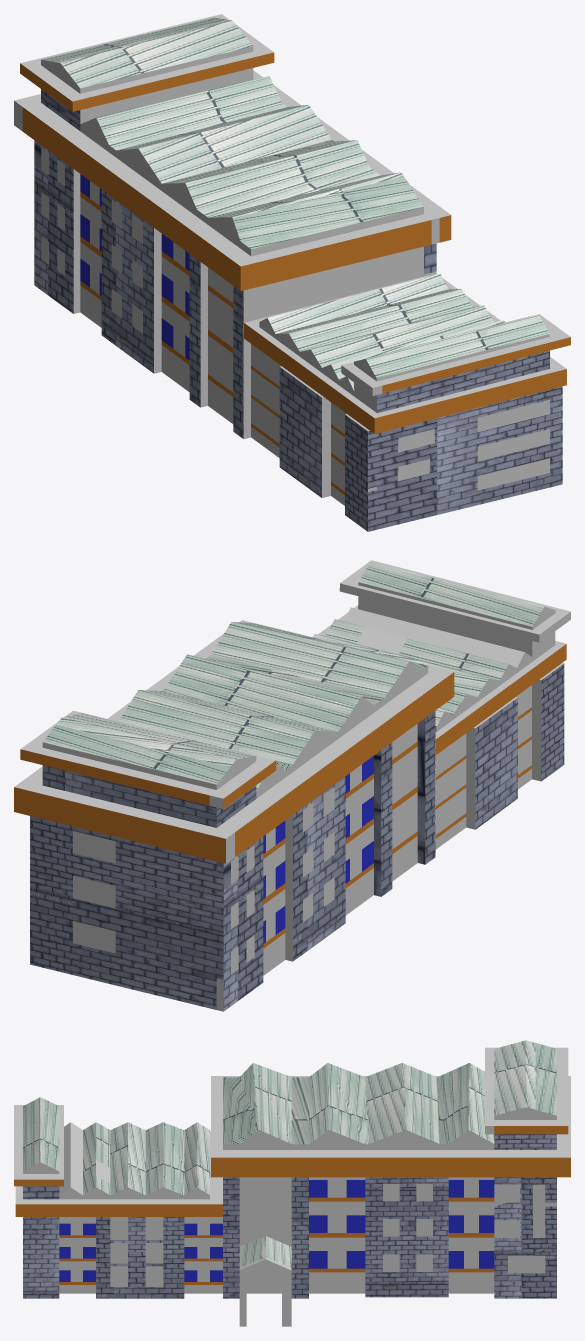
Rendered from central.fbx.
The picture shows the model from 3 angles, top to bottom: view 1: azimuth 30°, elevation 25°; view 2: azimuth 150°, elevation 25°; view 3: azimuth 270°, elevation 25°; orthographic projection. The views are drawn at different scales.
Parts seen in each view (by area): view 1: Cube; view 2: Cube; view 3: Cube.
Part boxes in pixels (x1,y1,x2,y2): Cube: [14, 14, 570, 531]; Cube: [14, 560, 570, 1011]; Cube: [14, 1040, 570, 1326].
Size of the model in its own units: 291 by 273 by 702.
